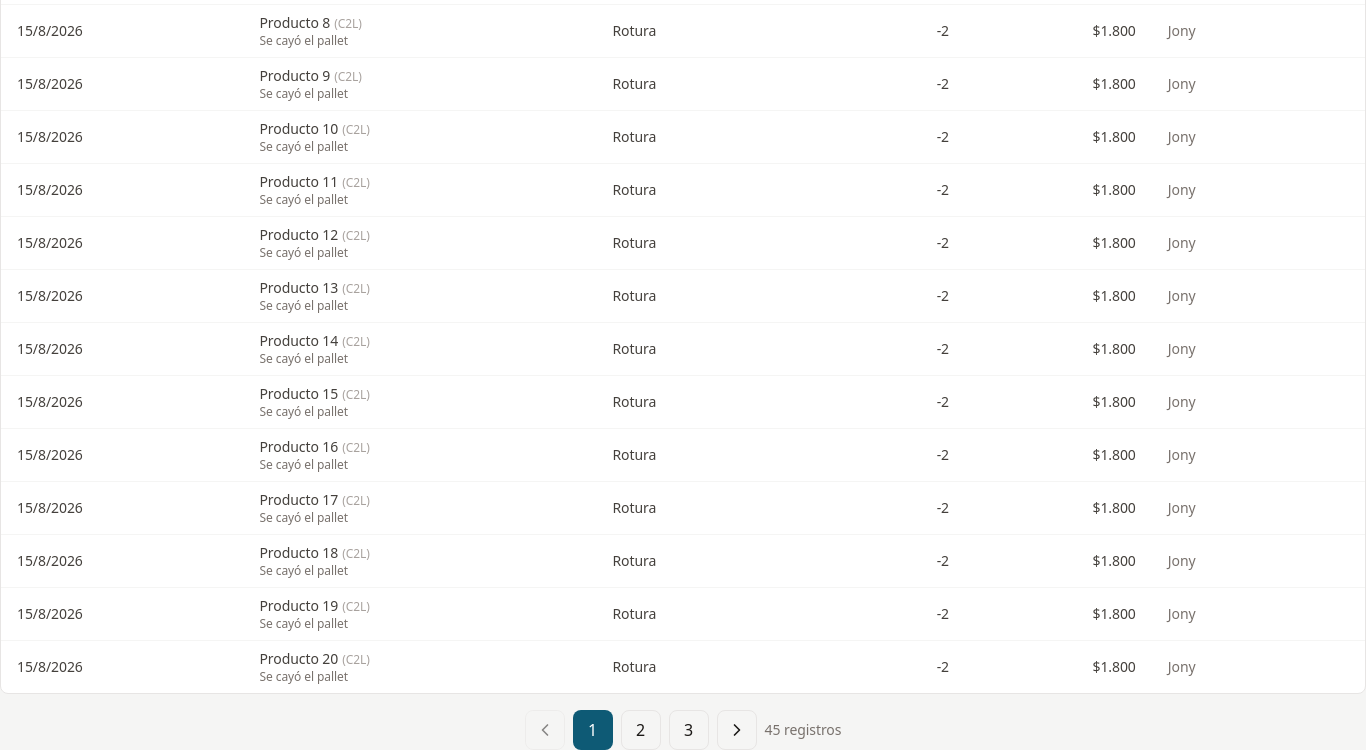
Test: ReporteMermas › paginación del detalle (en el servidor, #1146) › muestra la página que manda el servidor y se llega a todas
(page scrolled)
Check: the text "Producto 20" is shown, box top-left (260, 648), bottom-right (338, 668)
Click the button named "Página 3": (689,730) top-left (669, 710), bottom-right (709, 749)
(page scrolled)
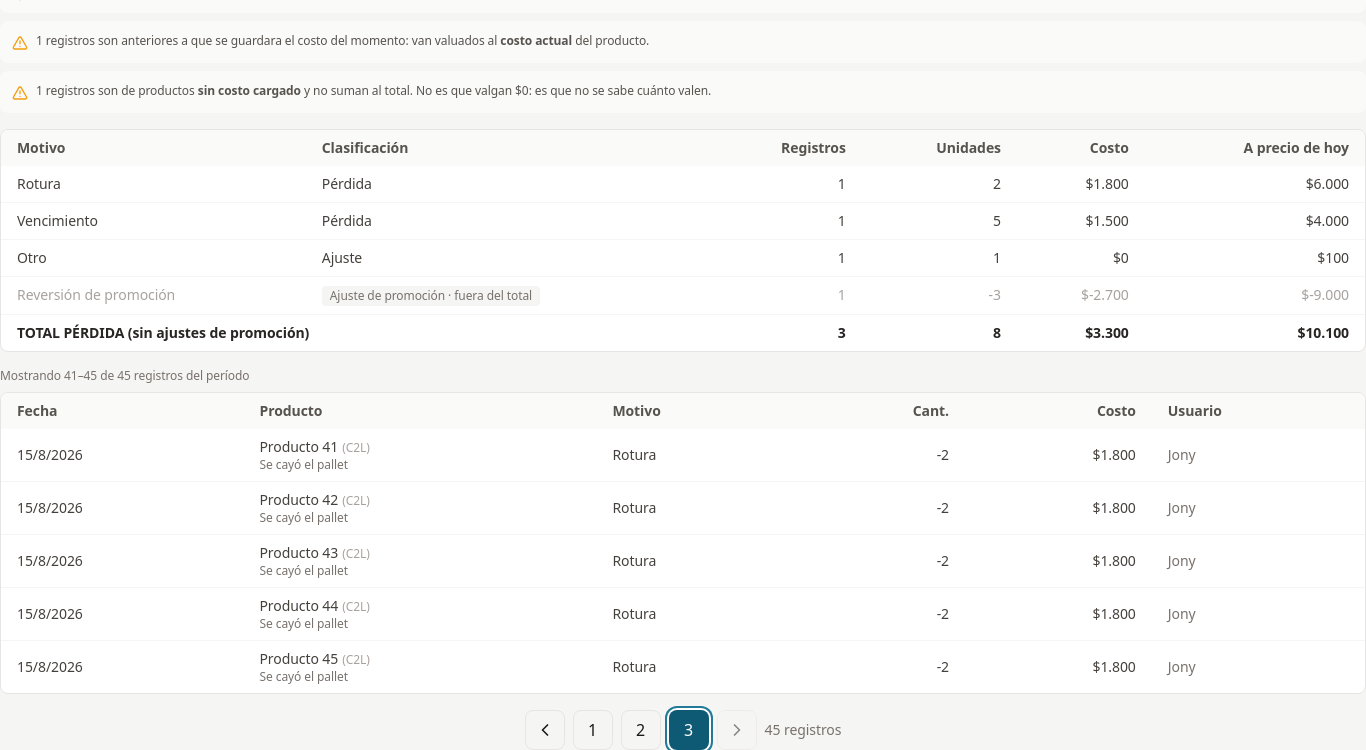
Check: the text "Producto 45" is shown, box top-left (260, 648), bottom-right (338, 668)
Check: the text "Producto 20" is gone
Check: the text "Mostrando 41–45 de 45 registros del período" is shown, box top-left (0, 366), bottom-right (250, 384)
